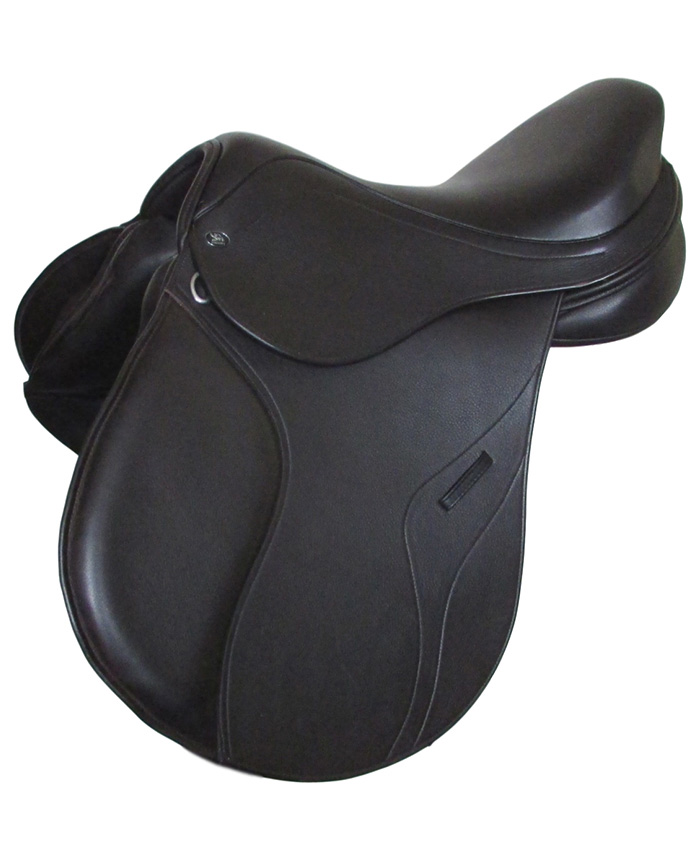saddle: (41, 62, 682, 709), (41, 62, 679, 709)
